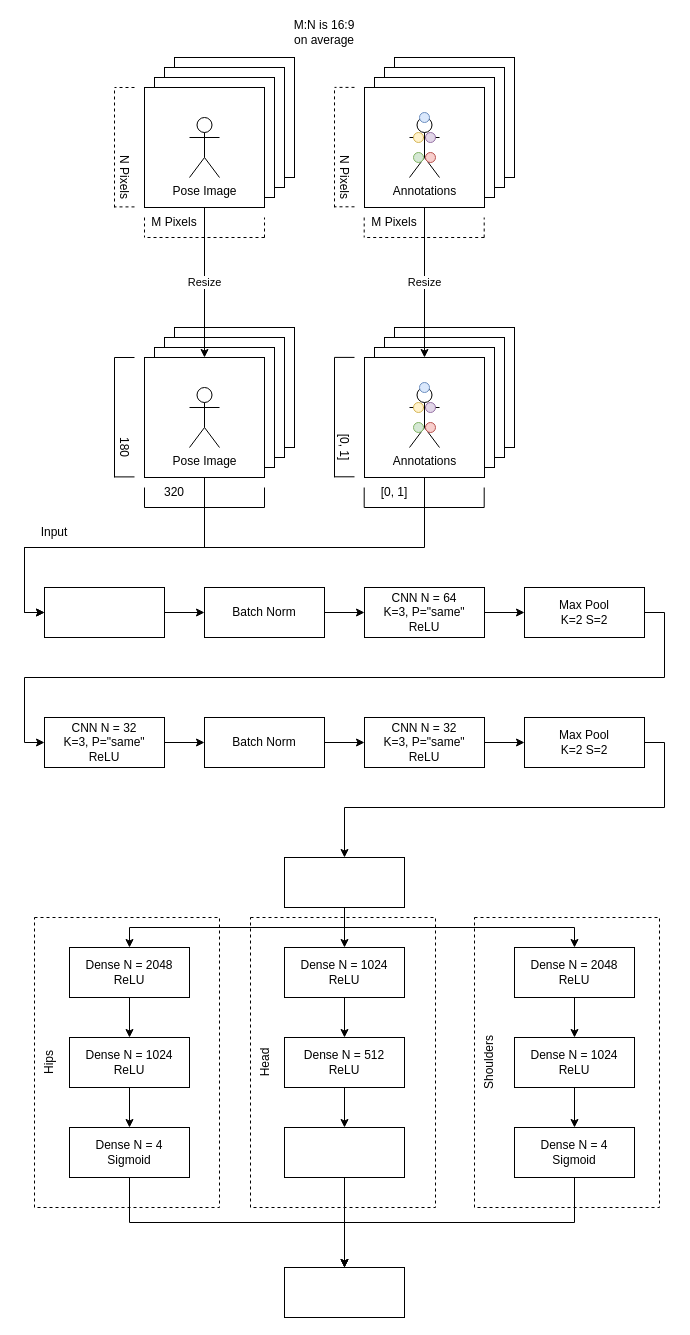
This 690x1335 diagram has some shape labels left out. Each missing label, with the centre of its shape:
CNN N = 128 K=3, P="same" ReLU: (104,612)
Concatenate: (344,1292)
Dense N = 2 Sigmoid: (344,1152)
Global Maxpool: (344,882)
